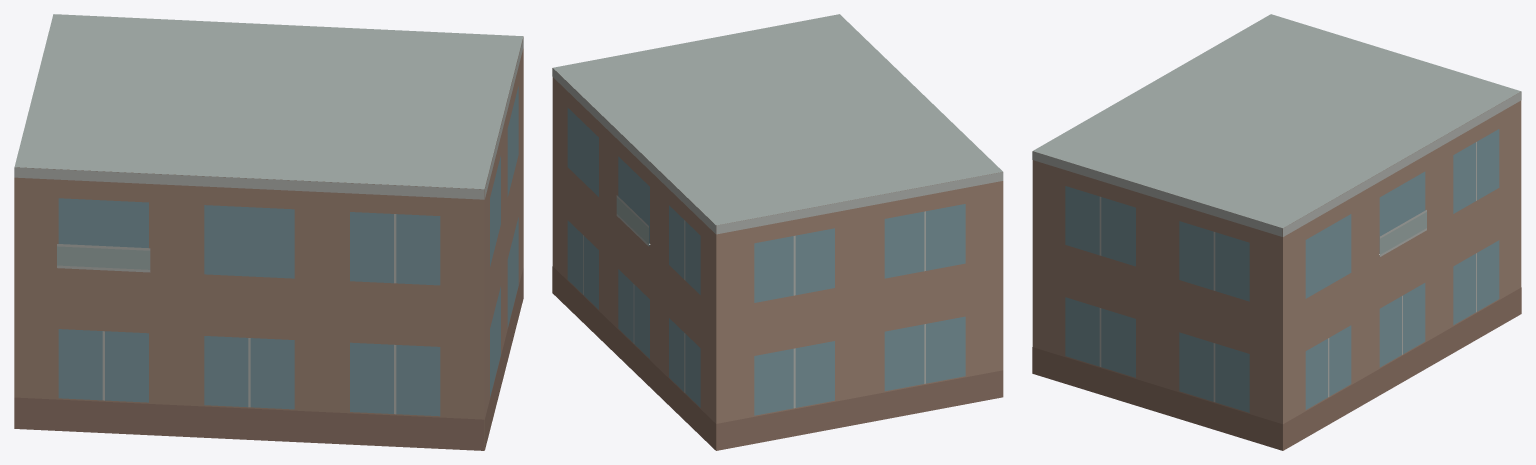
The model's file is survey-upis-33017128.glb.
The picture shows the model from 3 angles, left to right: view 1: azimuth 30°, elevation 25°; view 2: azimuth 150°, elevation 25°; view 3: azimuth 270°, elevation 25°; orthographic projection. The views are drawn at different scales.
Visible parts, largest first — view 1: survey-upis-33017128.tmp; view 2: survey-upis-33017128.tmp; view 3: survey-upis-33017128.tmp.
Part boxes in pixels (box(x1,y1,x2,y2)): survey-upis-33017128.tmp: box(14, 14, 523, 450); survey-upis-33017128.tmp: box(552, 14, 1003, 450); survey-upis-33017128.tmp: box(1032, 14, 1521, 450).
Size of the model in its own units: 12.6 by 6.1 by 12.15.
